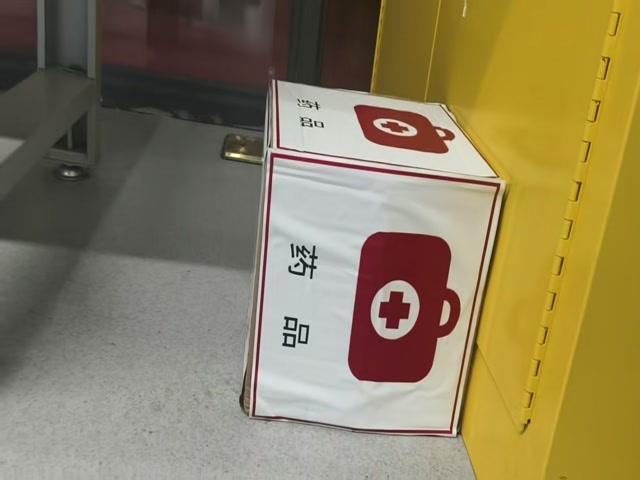Cube_medicine: (265, 81, 504, 192)
